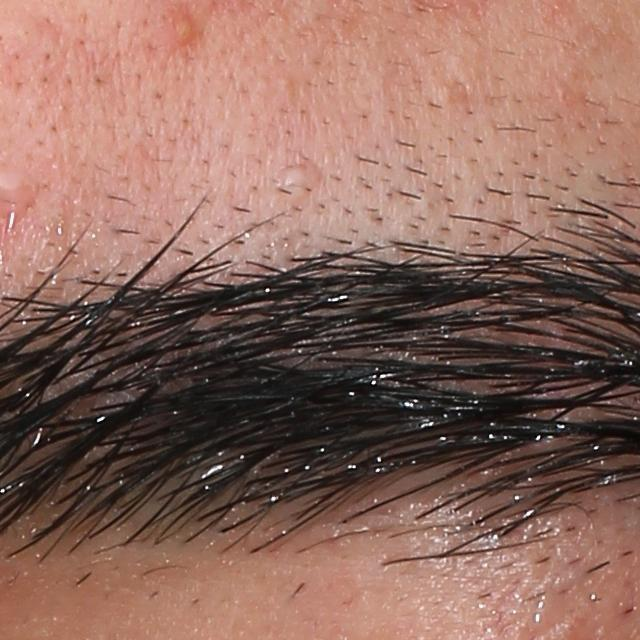pustule: (168, 6, 201, 47)
